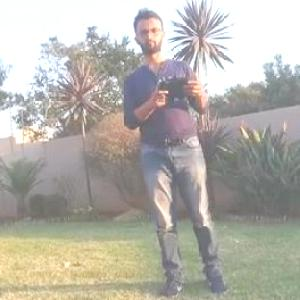follow: (120, 0, 238, 299)
